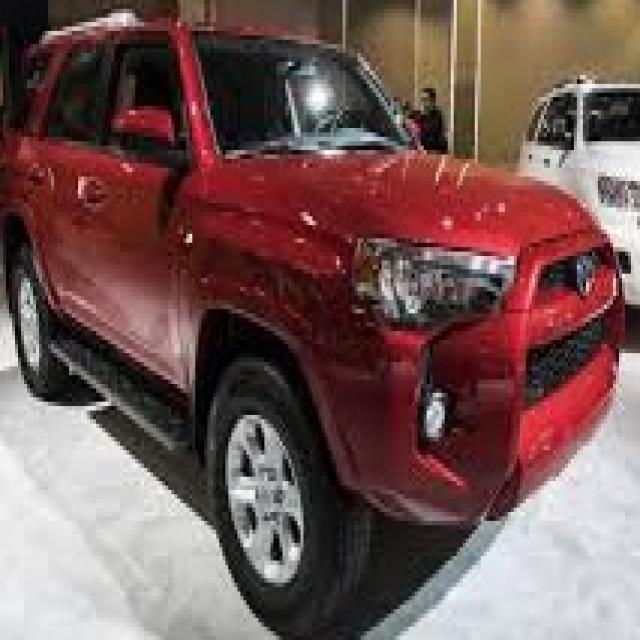maroon: (0, 11, 624, 541)
